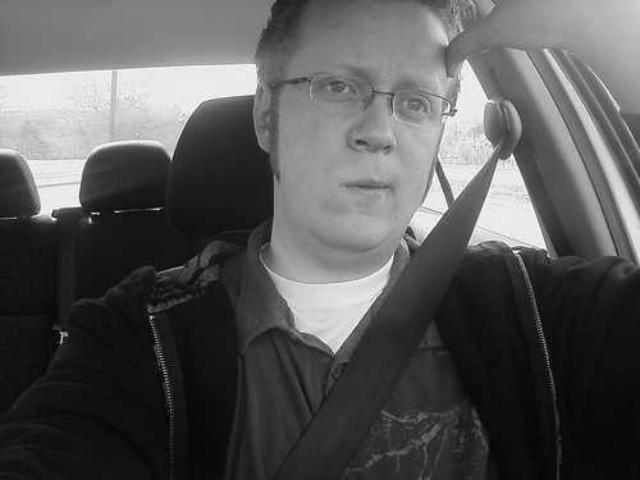SafeDriving: (386, 84, 437, 123), (310, 69, 364, 103)
Seatbelt: (272, 100, 524, 480)
